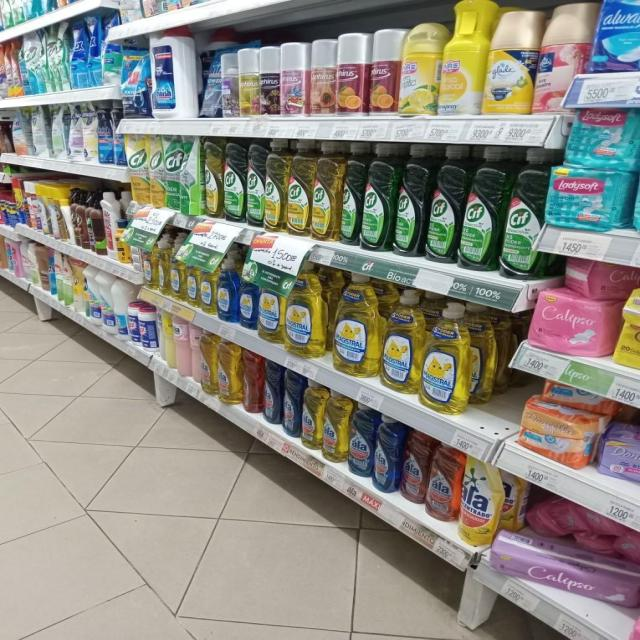ala_conc_amarillo: (324, 390, 348, 464), (302, 380, 324, 451)
ala_conc_azul: (374, 415, 402, 494), (349, 404, 374, 478)
ala_conc_rojo: (427, 442, 460, 522), (402, 431, 427, 505)
ala_crem_rosado: (174, 316, 190, 376)
ala_sachet_amarillo: (461, 455, 502, 546)
cif_conc_bot_amarilla: (312, 140, 340, 242), (287, 138, 311, 237), (264, 138, 286, 233), (204, 136, 222, 220)
cif_conc_botella_verde: (501, 147, 544, 280), (460, 146, 500, 271), (427, 144, 460, 264), (394, 143, 426, 258), (361, 142, 394, 252), (341, 141, 362, 247), (223, 138, 245, 223), (246, 139, 263, 228)
cif_conc_sachet_amarillo: (126, 133, 148, 205), (149, 133, 164, 209)
cif_conc_sachet_verde: (180, 135, 202, 215), (164, 134, 182, 212)
magistral_con_amarillo: (422, 301, 471, 414), (332, 272, 378, 377), (381, 288, 422, 394), (286, 264, 326, 358), (258, 286, 284, 343), (200, 263, 217, 314), (170, 250, 186, 300), (186, 262, 200, 308)
magistral_con_azul: (217, 258, 238, 322), (239, 267, 257, 329)
